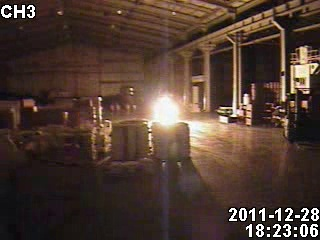fire: (150, 92, 180, 126)
